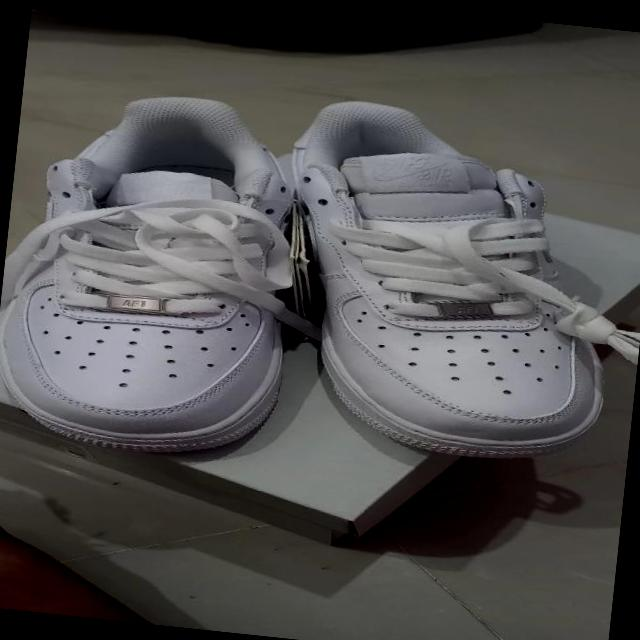nike_original_airforce: (255, 90, 629, 473), (0, 74, 318, 468)
